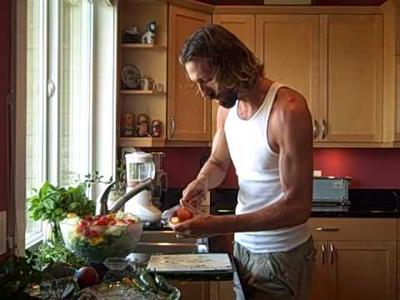person: (167, 21, 318, 297)
